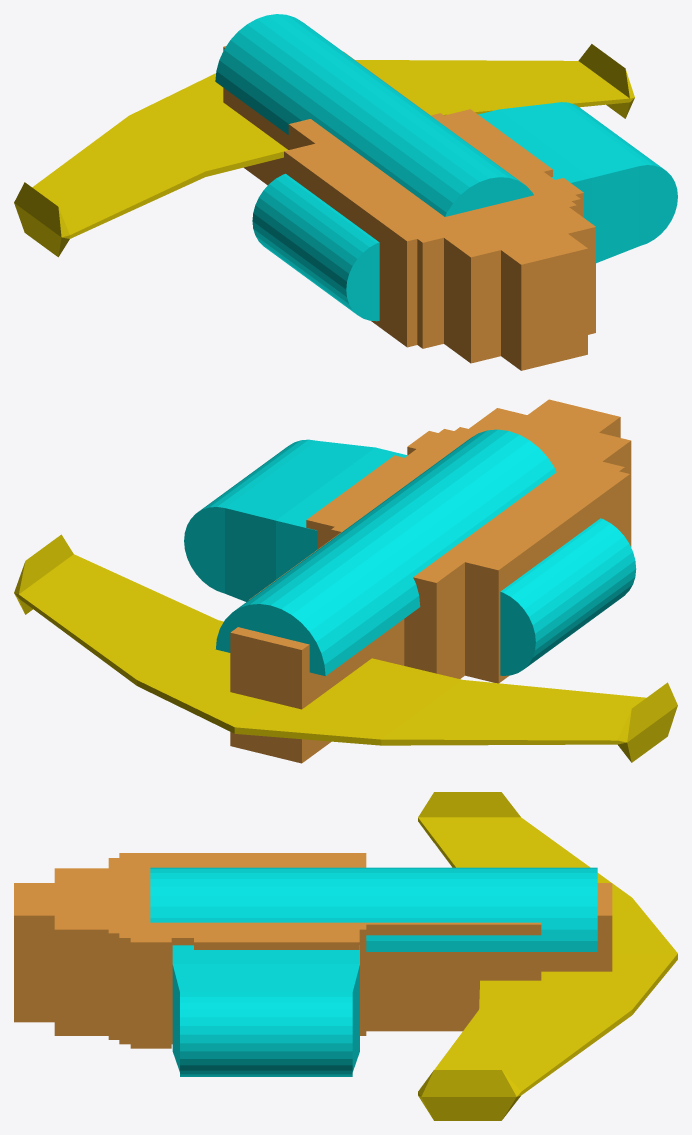
The model's file is Mesh_Player_Ship_model_001.fbx.
3 renders of one model, top to bottom at view 1: azimuth 30°, elevation 25°; view 2: azimuth 150°, elevation 25°; view 3: azimuth 270°, elevation 25°, orthographic. The views are drawn at different scales.
Visible parts, largest first — view 1: Cylinder.006; view 2: Cylinder.006; view 3: Cylinder.006.
Part boxes in pixels (box(x1,y1,x2,y2)): Cylinder.006: box(14, 14, 677, 370); Cylinder.006: box(14, 399, 677, 763); Cylinder.006: box(14, 792, 677, 1120).
Bounding box in the file's own units: 800 × 178 × 799.
